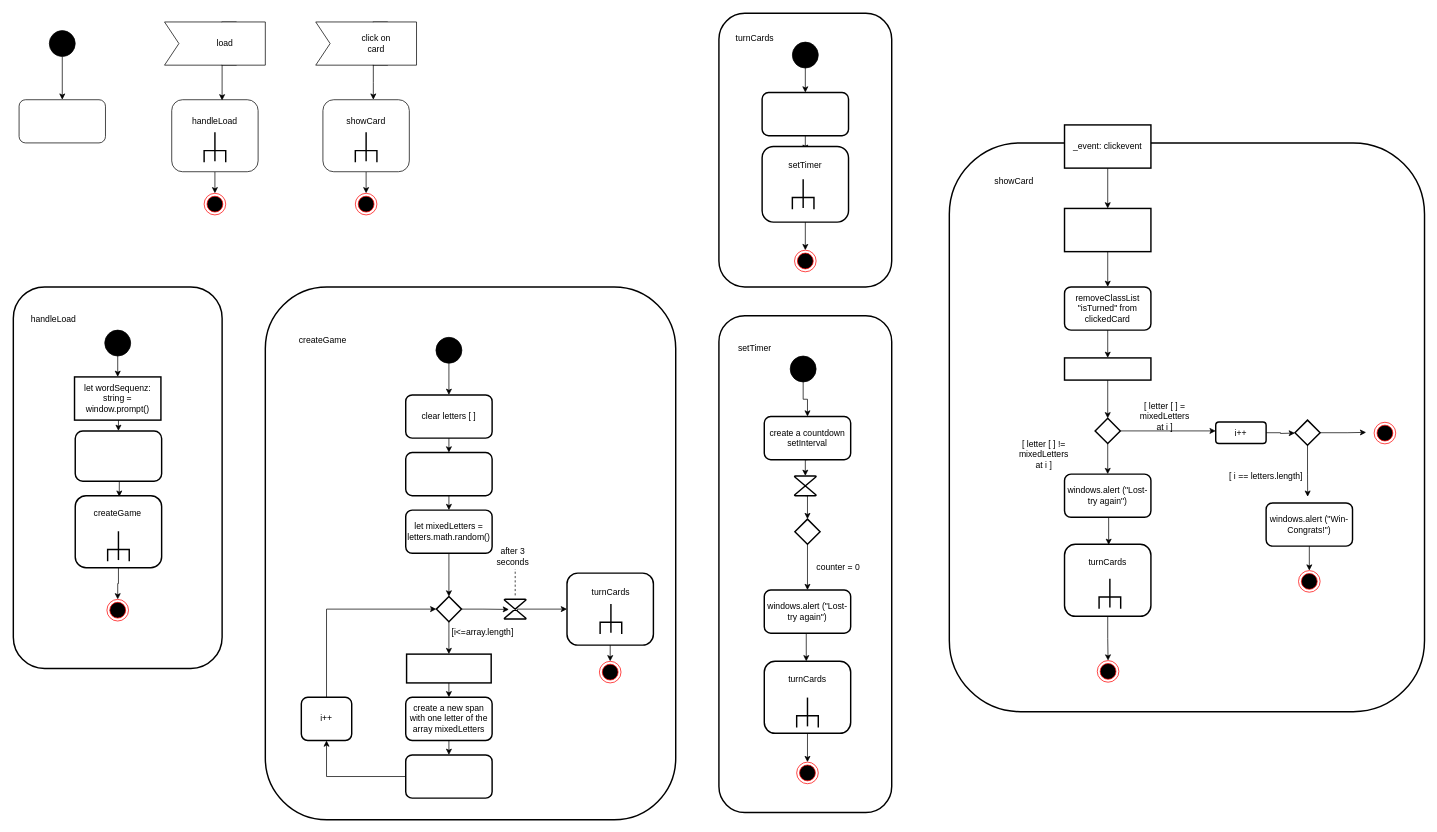
Some shapes in this 1437 by 832 pixel diagram are drawn without their labels. Each missing label, with the centre of its shape:
addClass .isTurned to all letter span Elements: point 805,113
Div "container" appendChild: point 448,776
i: number = 0: point 449,668
install EventListener on Div "container": point 118,456
install load-listener: point 61,121
let clickedCard = eventTarget: point 1107,229
let i: point 1107,368
split wordSequenz in single letters and put it an array letters [ ]: point 448,473
